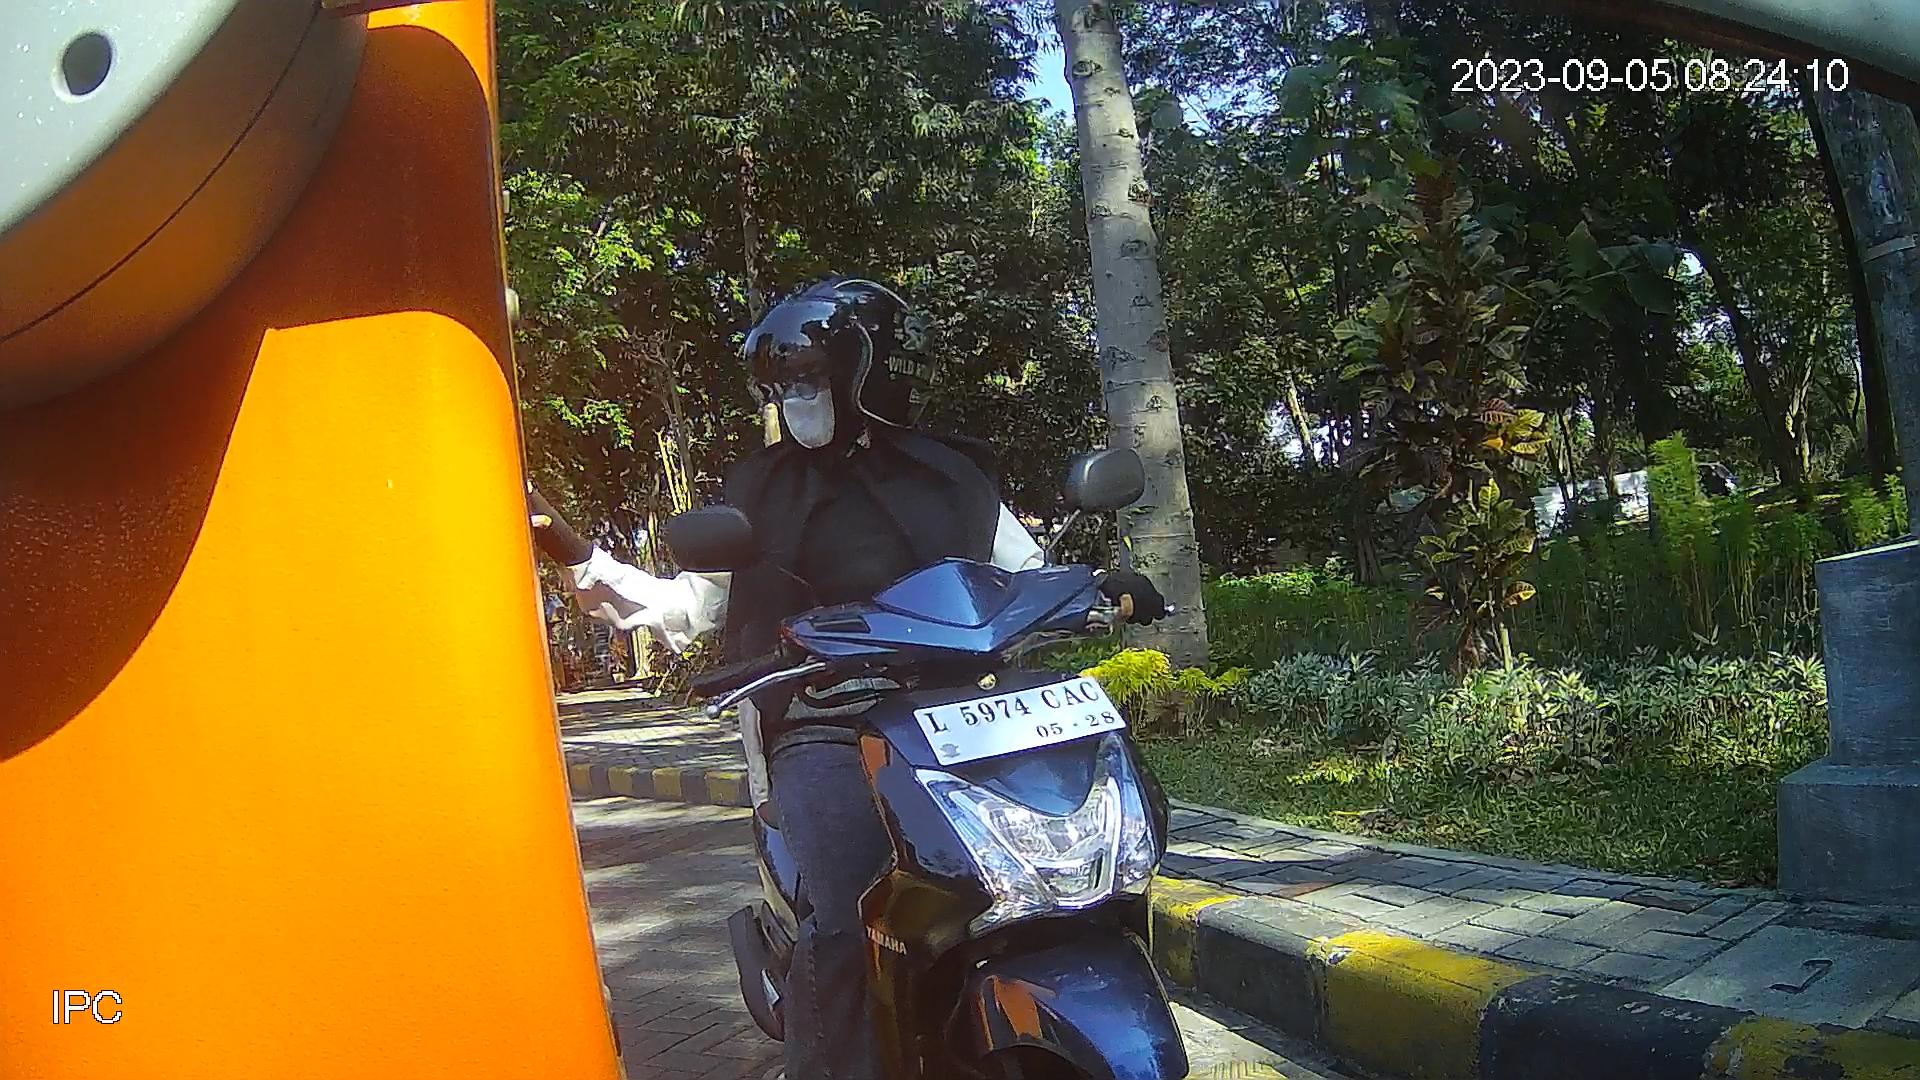plat: (909, 673, 1130, 767)
